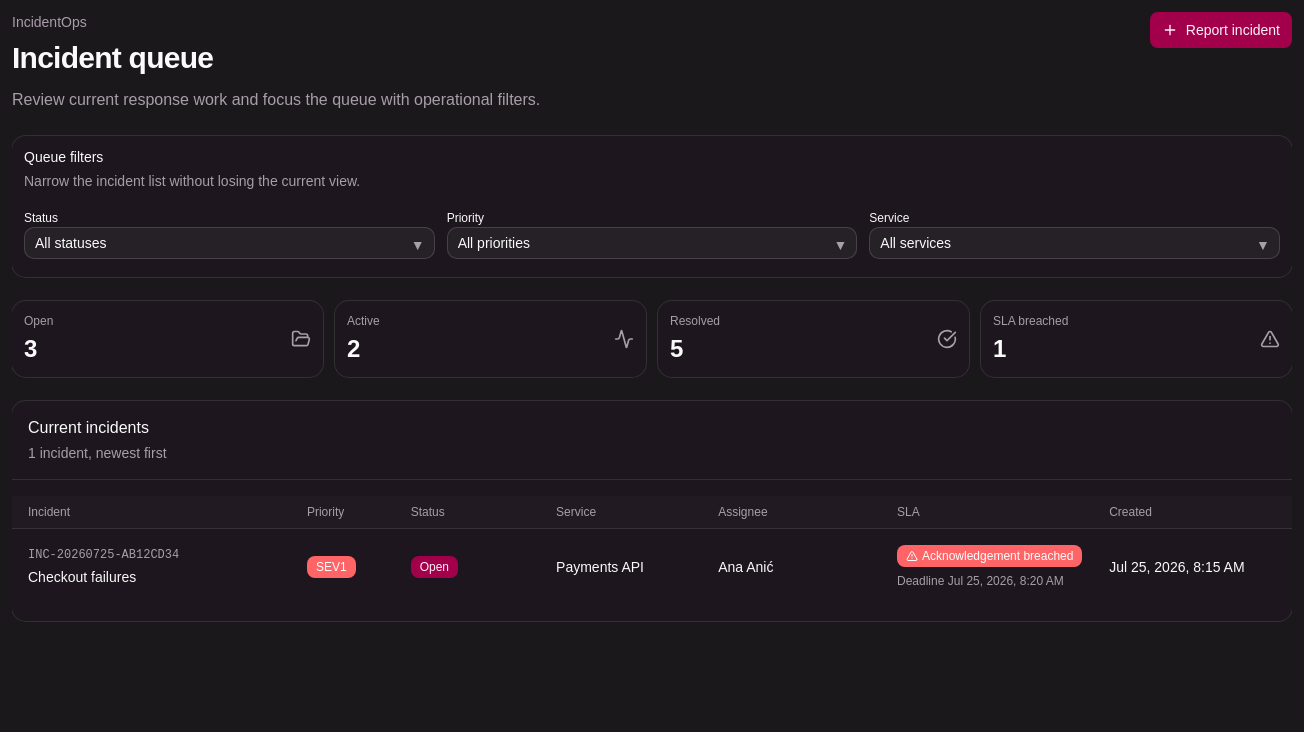
Scenario: DashboardPage › writes filter changes to the URL and replaces the API result
Expected: the text "INC-20260725-AB12CD34" is shown, x1=28 y1=547 x2=179 y2=563
Click the dropdown labelled "status".
click(71, 243)  # box x1=24 y1=227 x2=435 y2=259
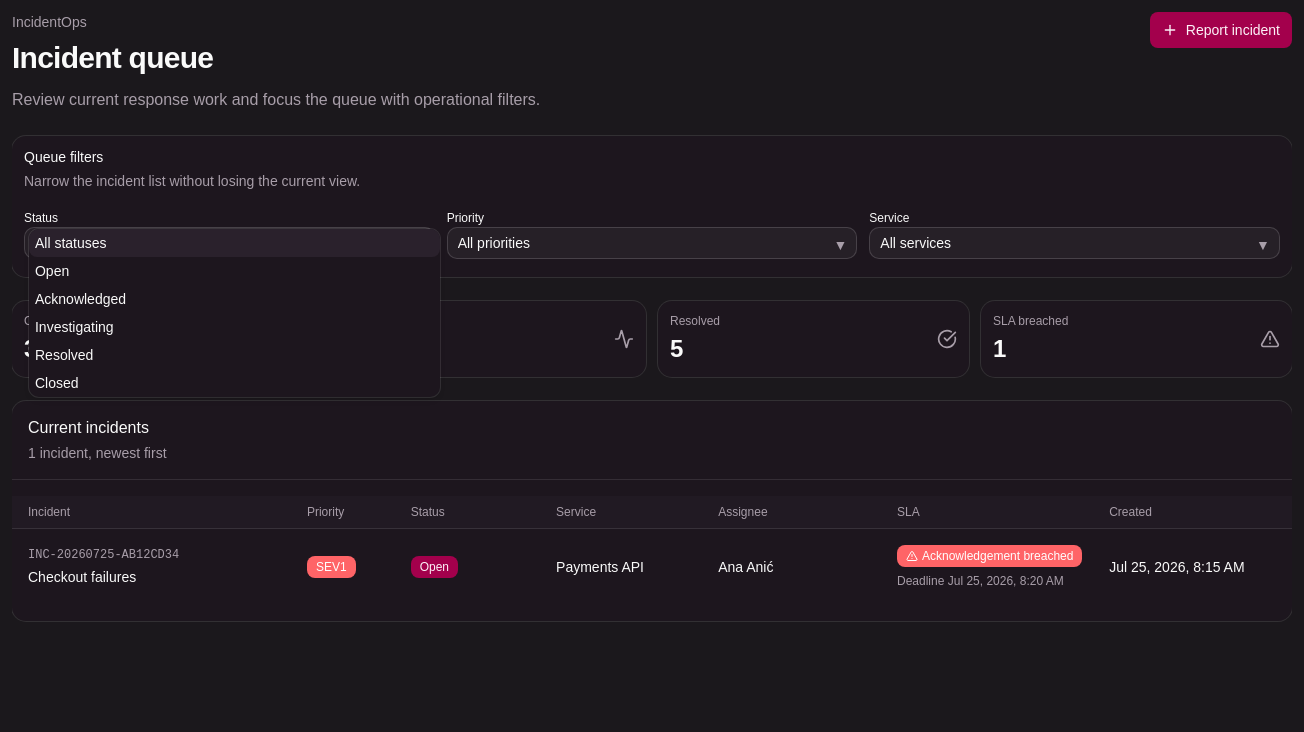
Click the option "Investigating".
click(74, 327)  # box x1=35 y1=319 x2=114 y2=335
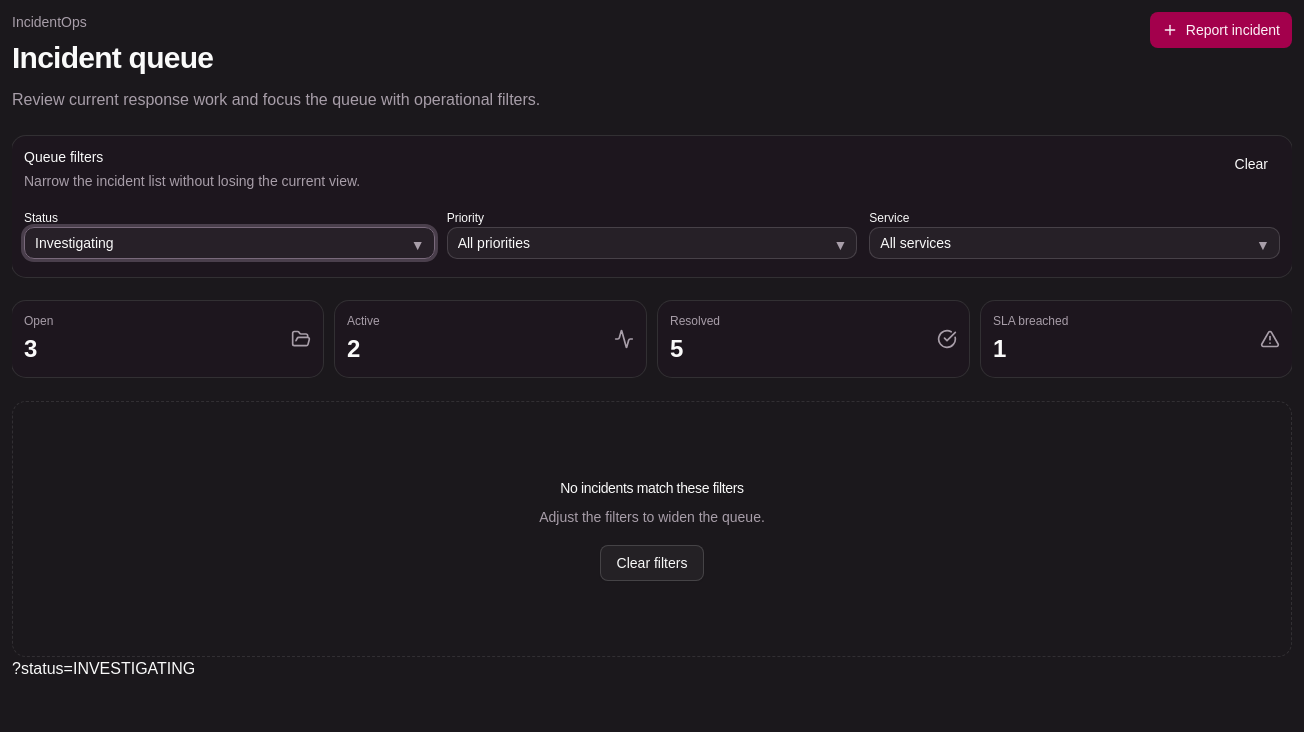
Now the text with test id "location-search" reads "?status=INVESTIGATING", box x1=12 y1=660 x2=195 y2=677
Now the text "No incidents match these filters" is shown, box x1=560 y1=478 x2=744 y2=498
Now the button "INC-20260725-AB12CD34" is gone
